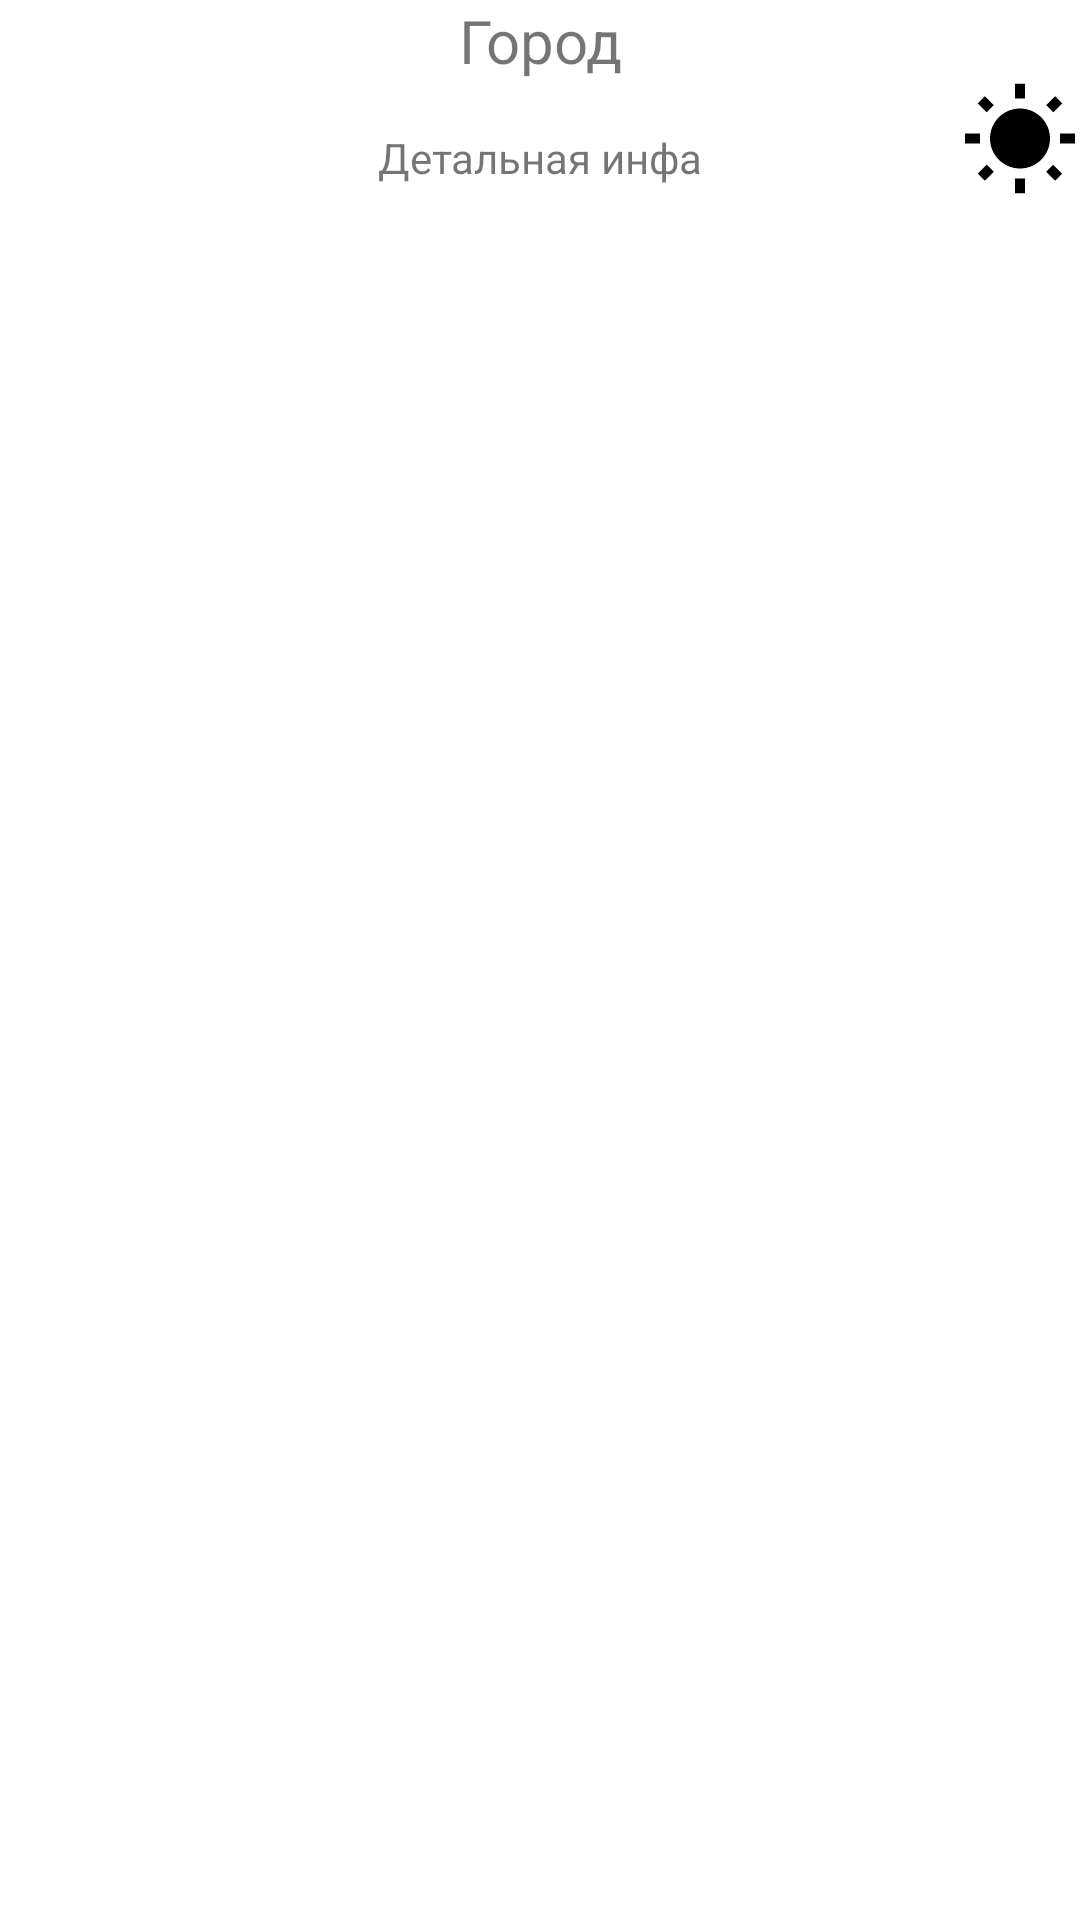

Locate icon controls on the screen. Image size 1080x1920, boxes as (x1, y1, x2, y2).
sunny: (965, 83, 1075, 194)
